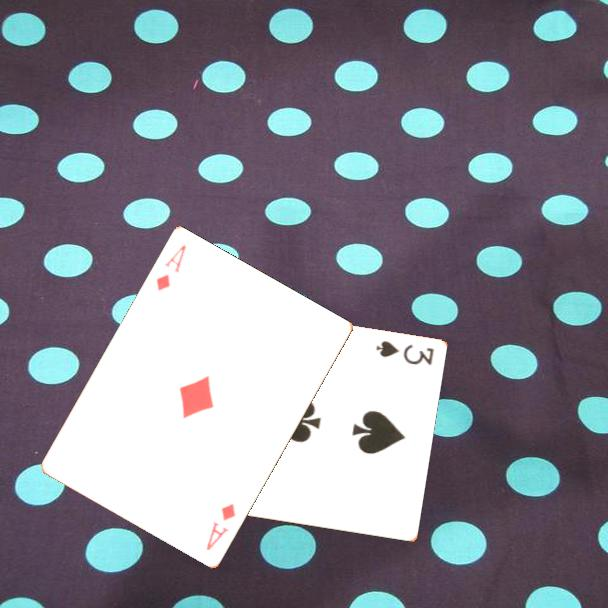d01: (202, 500, 238, 554), (153, 241, 189, 294)
s03: (372, 337, 437, 368)
